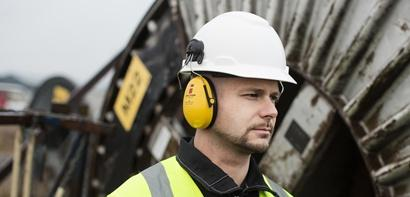helmet: (181, 13, 297, 87)
